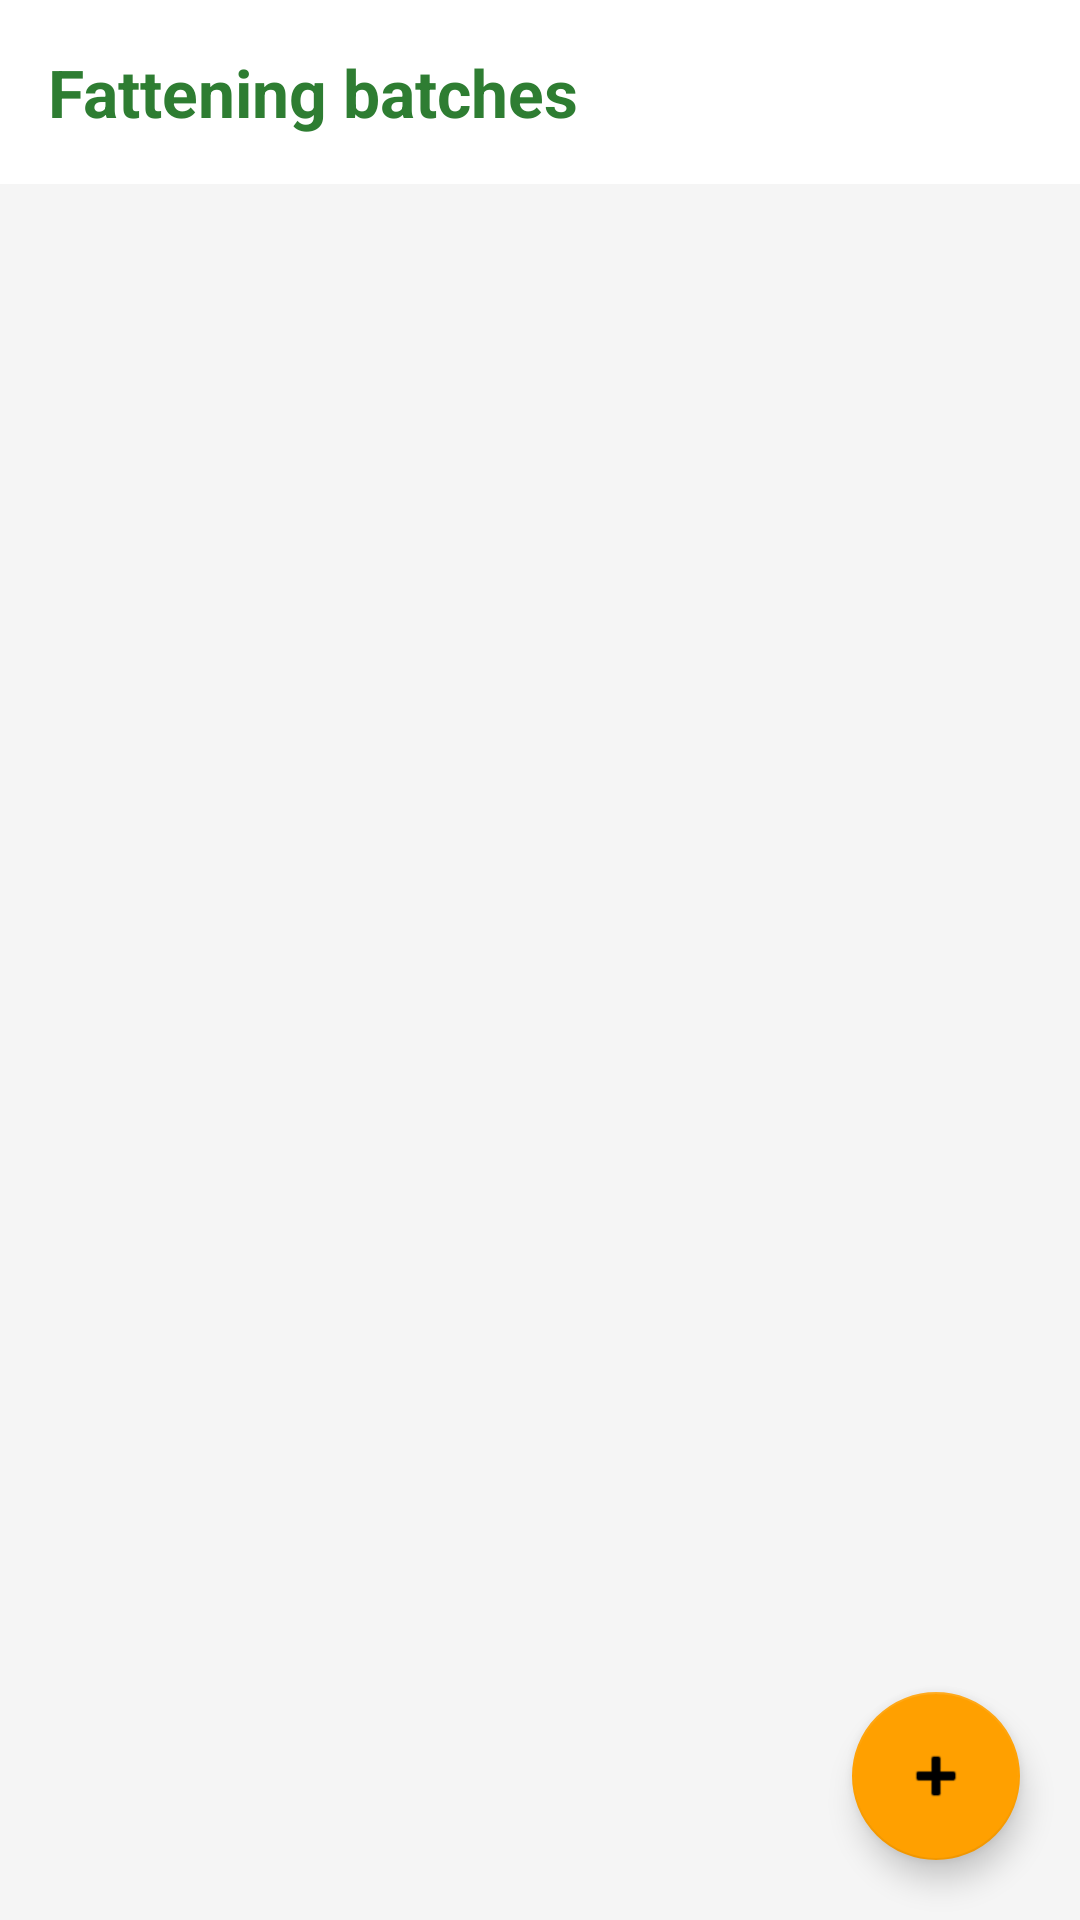

Point at icon controls on the screen. Image size 1080px x 1920px, points as point (x, y).
Add batch: point (936, 1776)
